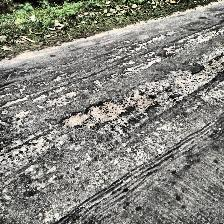pothole: (58, 89, 158, 135), (178, 54, 224, 90)
